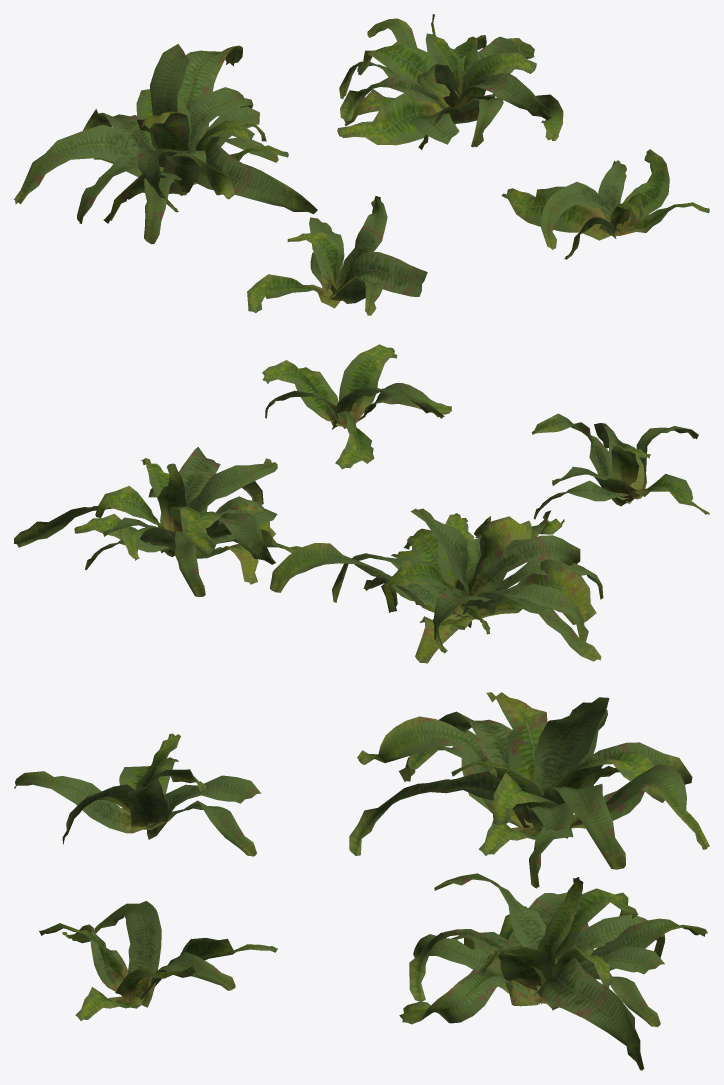
File: fern_02.gltf
3 views of the same model, one above another, from view 1: azimuth 30°, elevation 25°; view 2: azimuth 150°, elevation 25°; view 3: azimuth 270°, elevation 25° (orthographic). The views are drawn at different scales.
Visible parts, largest first — view 1: fern_02_b, fern_02_c, fern_02_d, fern_02_a; view 2: fern_02_b, fern_02_c, fern_02_d, fern_02_a; view 3: fern_02_b, fern_02_c, fern_02_a, fern_02_d.
Part boxes in pixels (x1=…): fern_02_b: x1=14, y1=44, x2=317, y2=244; fern_02_c: x1=337, y1=14, x2=563, y2=149; fern_02_d: x1=501, y1=149, x2=709, y2=259; fern_02_a: x1=247, y1=196, x2=427, y2=315; fern_02_b: x1=270, y1=508, x2=603, y2=663; fern_02_c: x1=14, y1=447, x2=300, y2=596; fern_02_d: x1=262, y1=344, x2=451, y2=469; fern_02_a: x1=531, y1=413, x2=709, y2=519; fern_02_b: x1=349, y1=692, x2=709, y2=888; fern_02_c: x1=399, y1=873, x2=707, y2=1070; fern_02_a: x1=14, y1=733, x2=261, y2=856; fern_02_d: x1=39, y1=901, x2=277, y2=1020.
Bounding box in the file's own units: 1.97 × 0.4277 × 1.72.
1 material, 1 textured.
